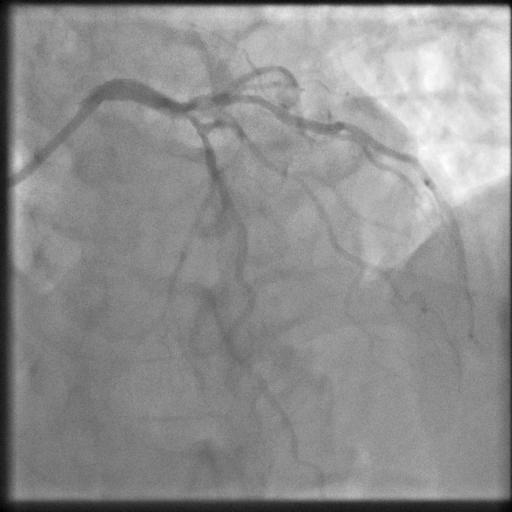Stenosis: (180, 106, 209, 142)
